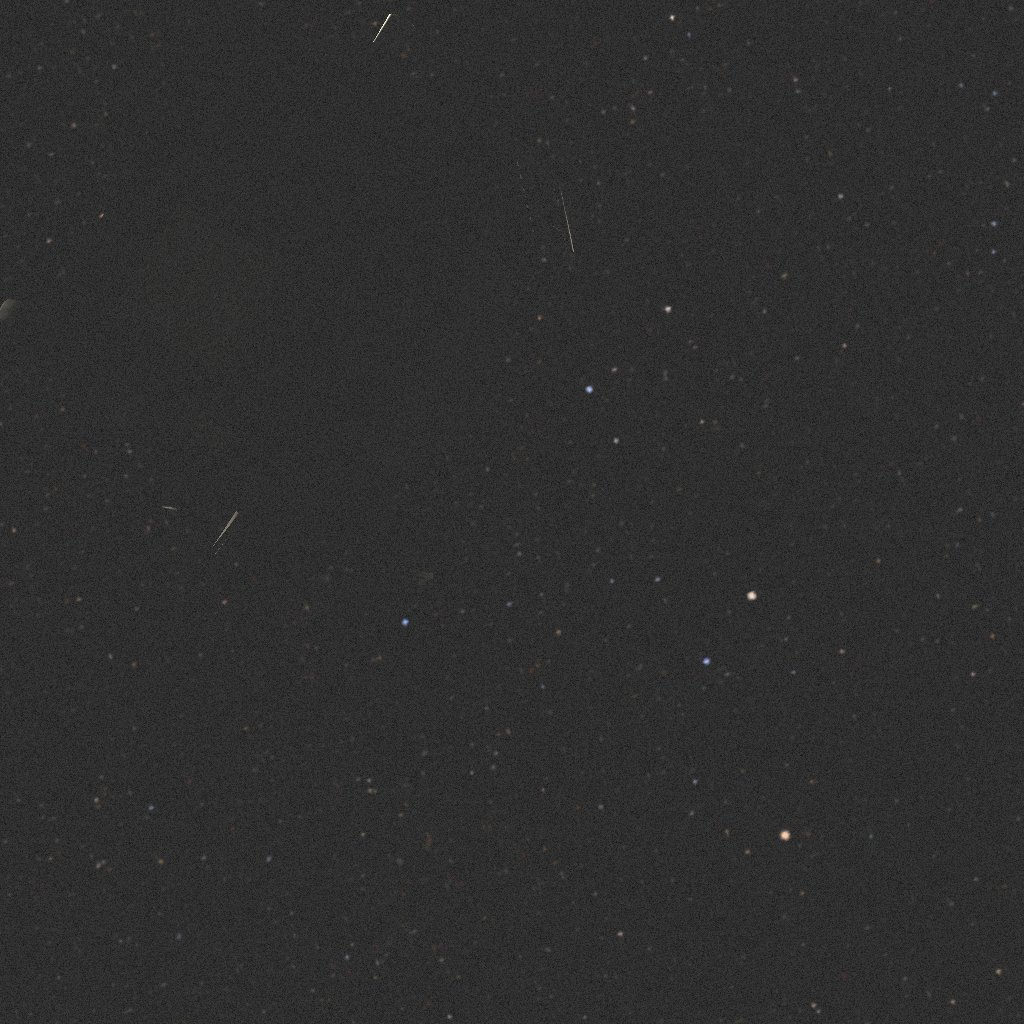proba_3_ocs: (0, 0, 580, 584)
